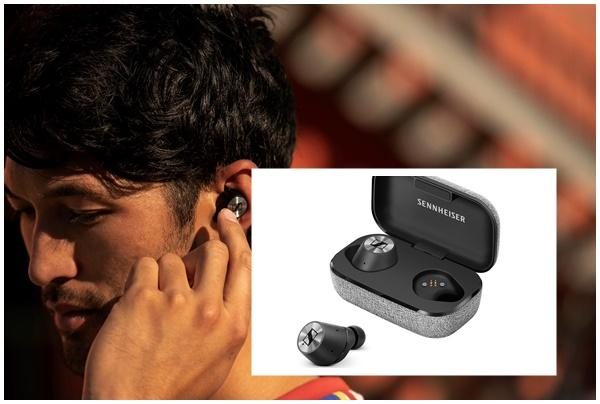earphone: (220, 185, 249, 228)
